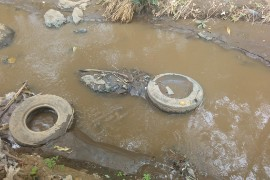trash: (2, 83, 80, 147), (137, 61, 212, 120)
